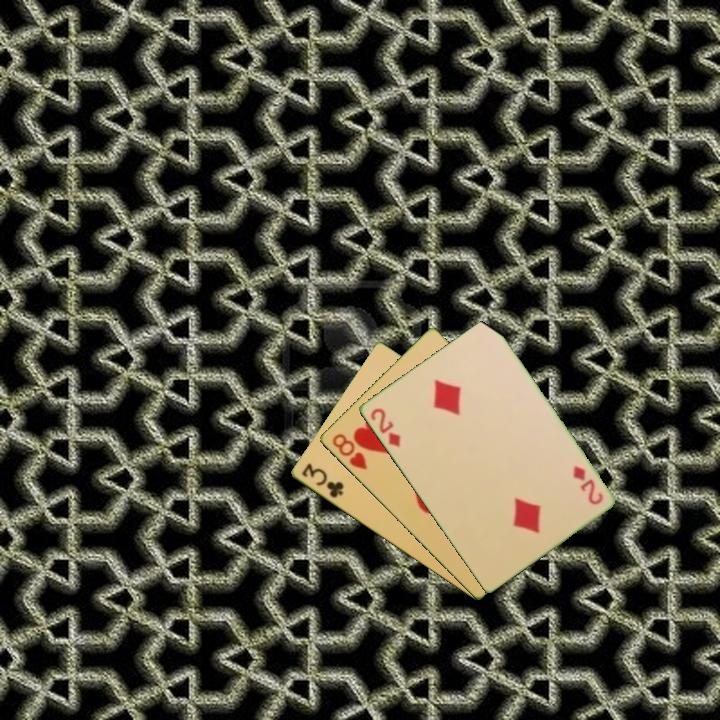2d: (366, 404, 403, 450), (569, 462, 606, 508)
3c: (298, 459, 346, 501)
8h: (328, 430, 370, 473)
